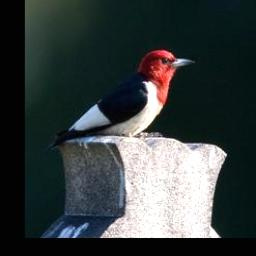Woodpecker: (41, 46, 200, 157)
